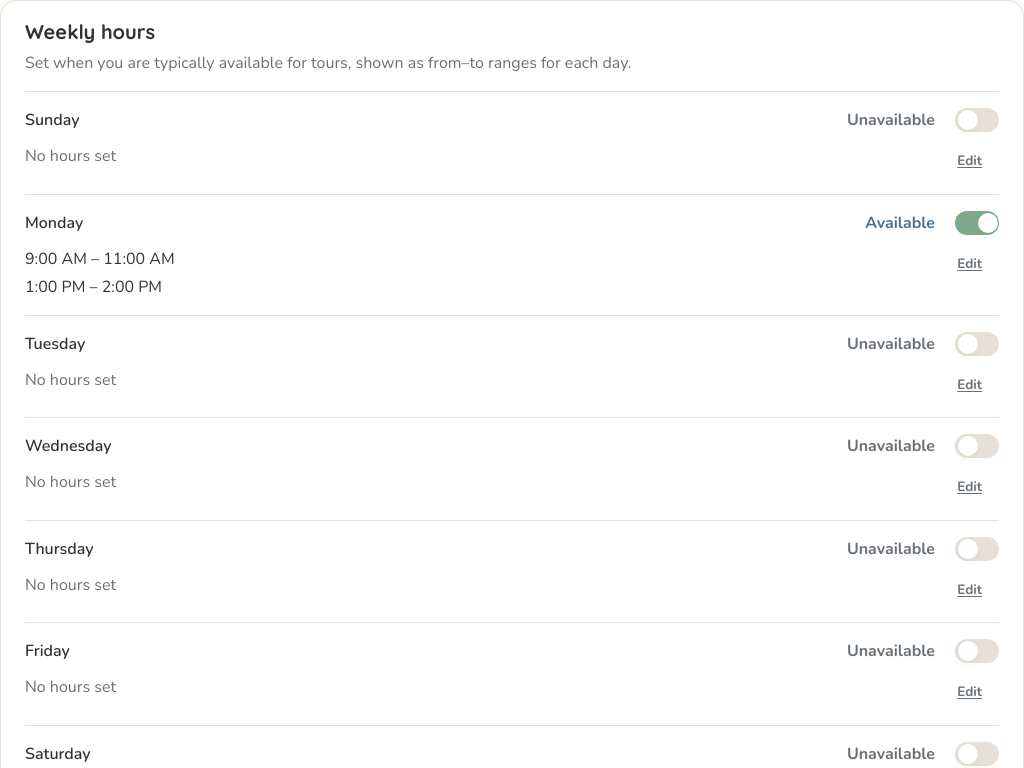
Test: WeeklyHoursPanel — toggle drives rule `active` (deactivate-preserve) › on a PARTIAL multi-rule failure still surfaces the succeeded rule's booking AND reports the error
The width and height of the screenshot is (1024, 768).
Click the switch named "monday availability".
click(977, 222)  # box [955, 210, 999, 234]
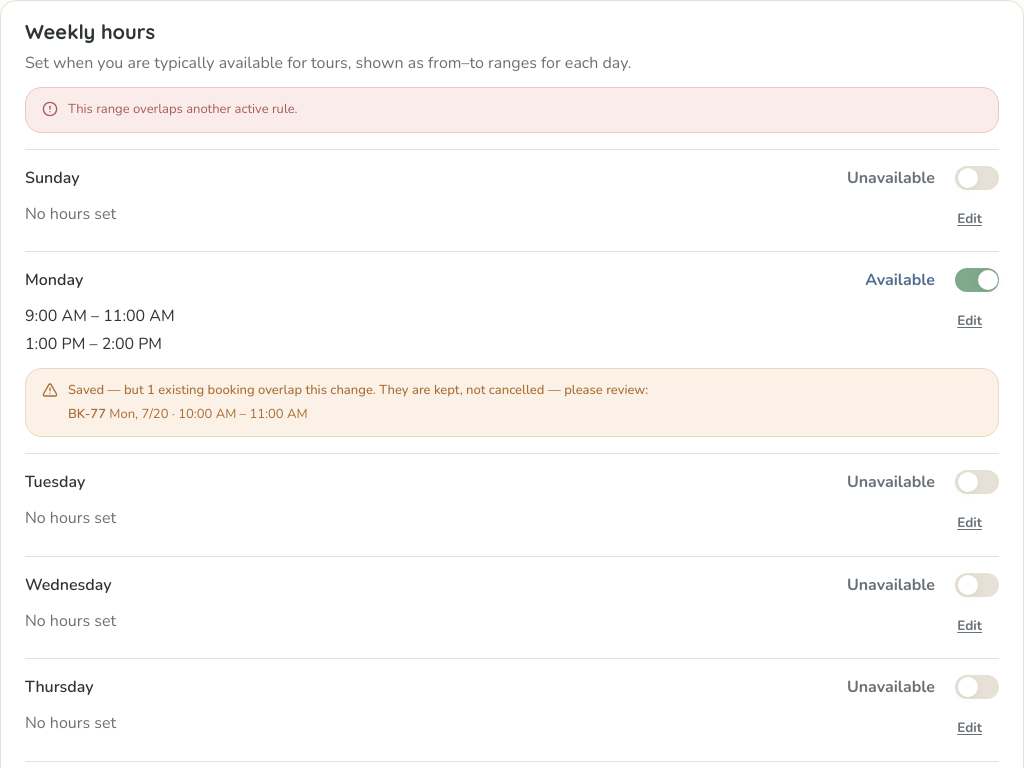
Check: the text "BK-77" is shown, box [68, 404, 106, 422]
Check: the text "This range overlaps another active rule." is shown, box [68, 100, 298, 118]
